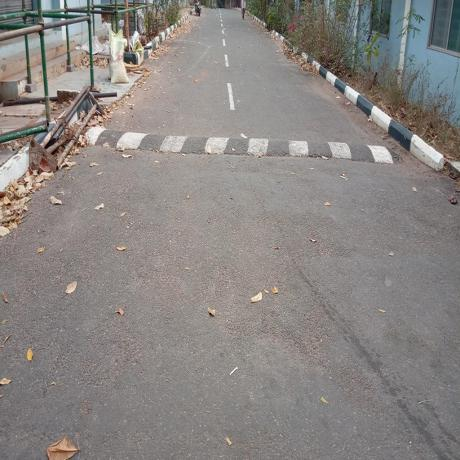Speed Bump: (80, 120, 402, 165)
